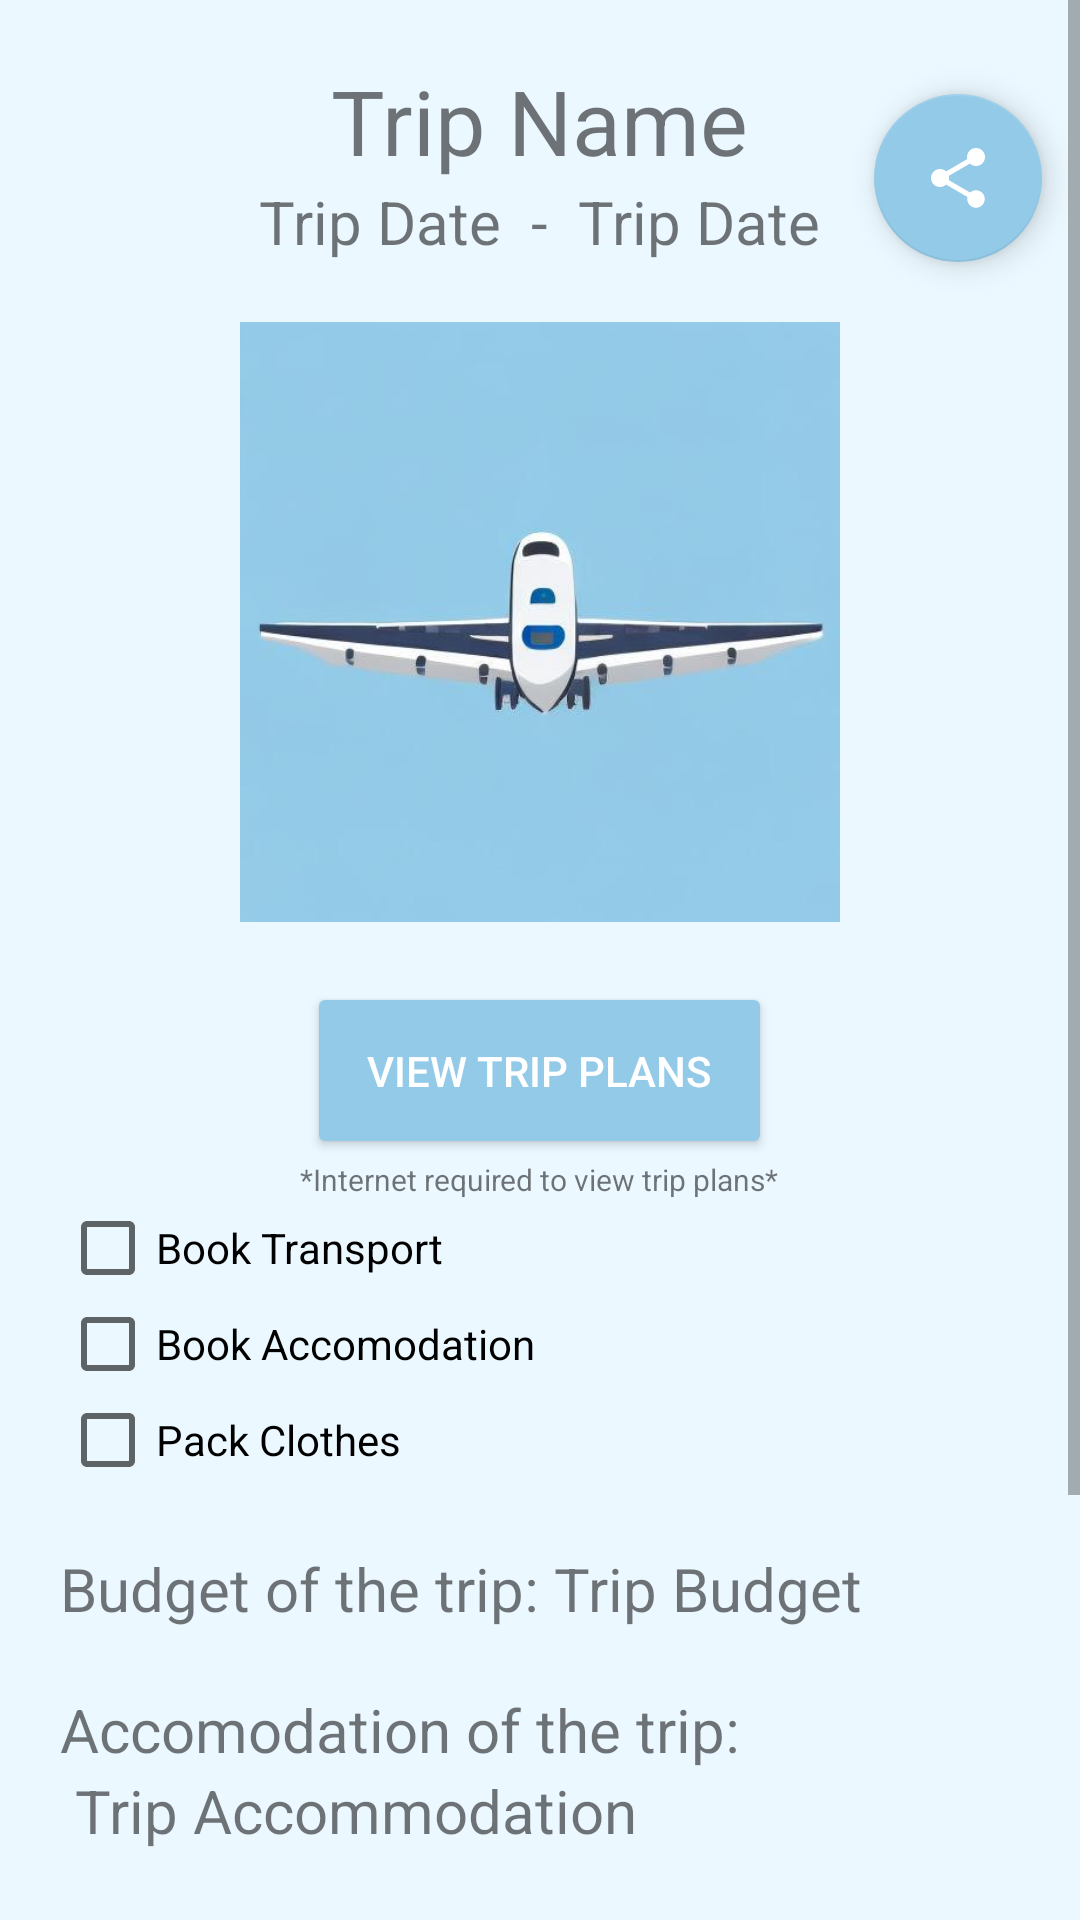

Where to tap for icons on this 1080px x 1920px app screen, as point (x, y):
share: point (958, 178)
